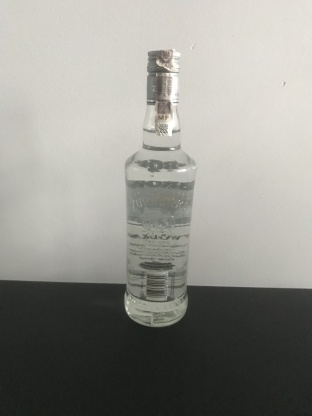nakretka: (145, 48, 182, 105)
